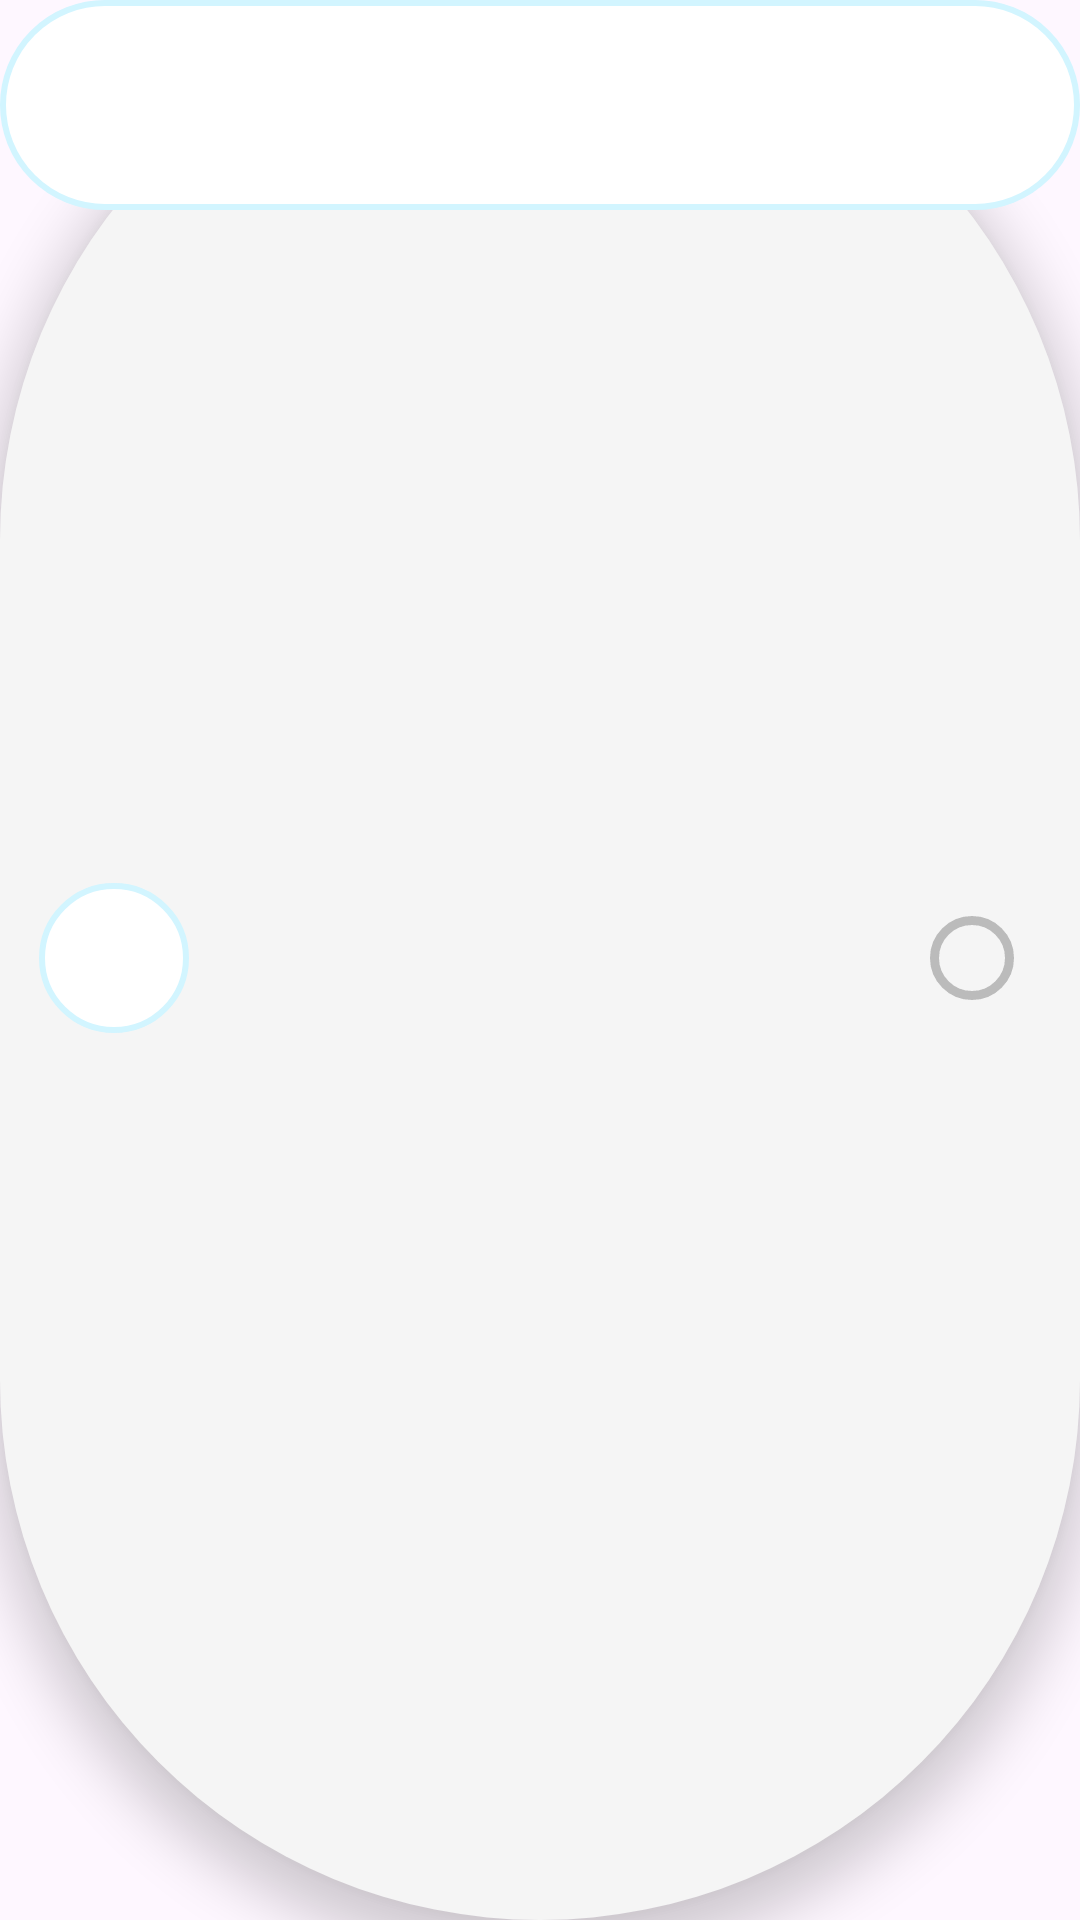

Icons on this 1080×1920 Android screen, each with its box as (x1, y1, x2, y2):
circle unfilled: (930, 916, 1014, 1000)
